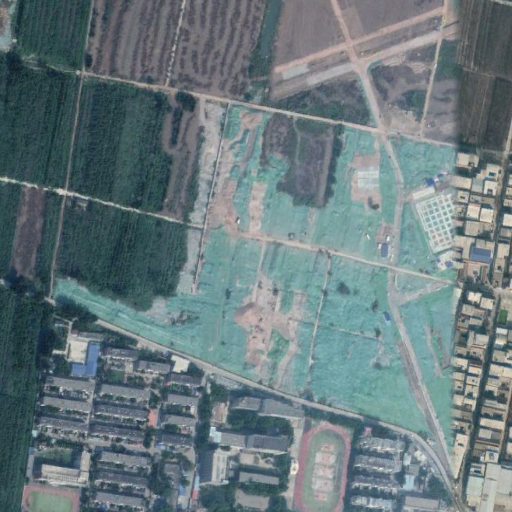cw: (45, 102, 461, 448)
